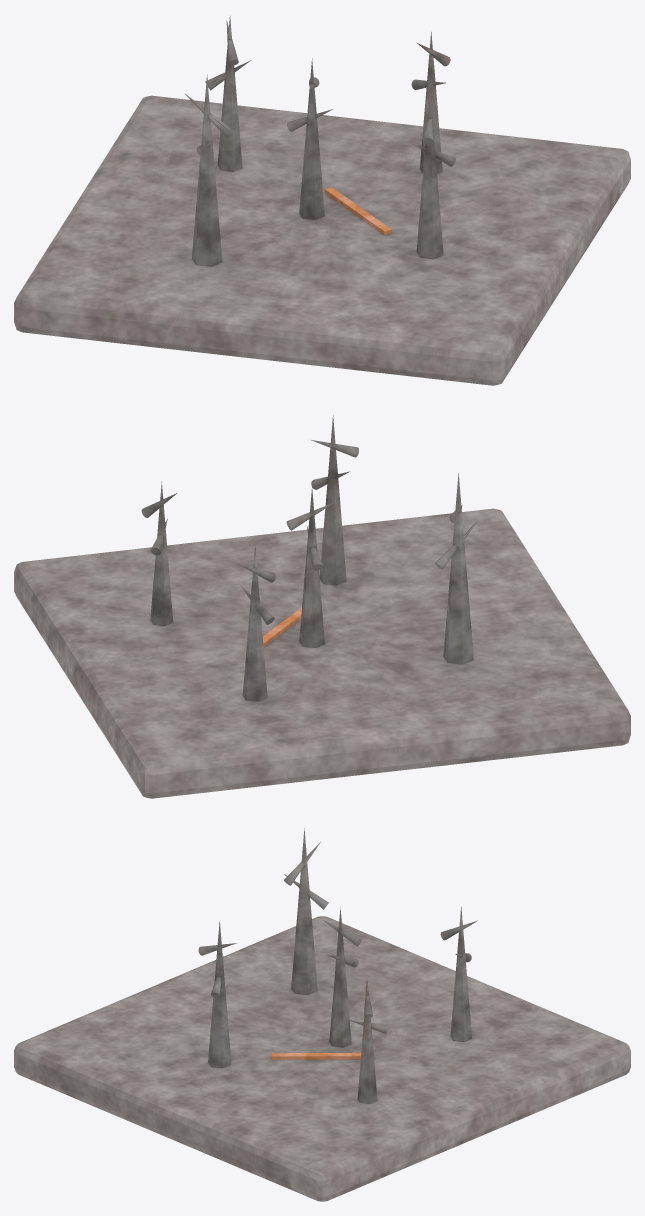
The model's file is horda_forest.glb.
3 renders of one model, top to bottom at view 1: azimuth 30°, elevation 25°; view 2: azimuth 150°, elevation 25°; view 3: azimuth 270°, elevation 25°, orthographic. The views are drawn at different scales.
Visible parts, largest first — view 1: dilek; view 2: dilek; view 3: dilek.
Boxes of the visible parts, x1=… form: dilek: x1=14, y1=16, x2=630, y2=385; dilek: x1=14, y1=415, x2=630, y2=798; dilek: x1=14, y1=828, x2=630, y2=1201.
Size of the model in its own units: 2.42 by 0.8422 by 2.42.
1 material, 1 textured.
